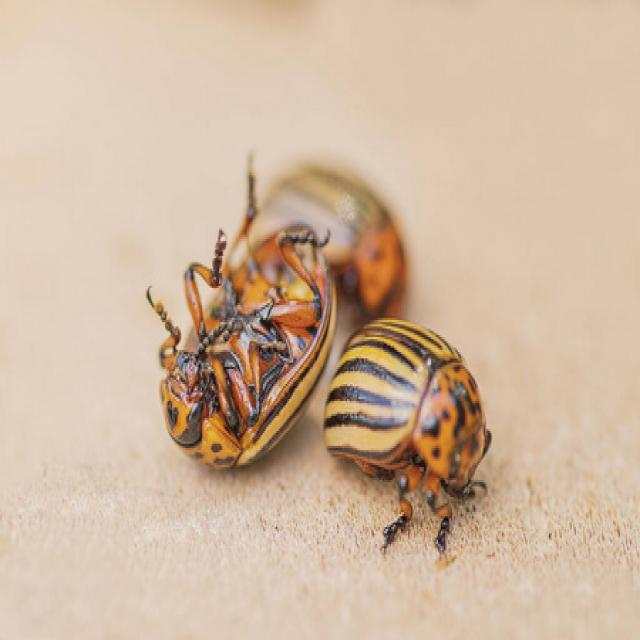ShuCaiHuaBanChong-Grown-: (319, 308, 519, 543), (161, 218, 329, 466)
